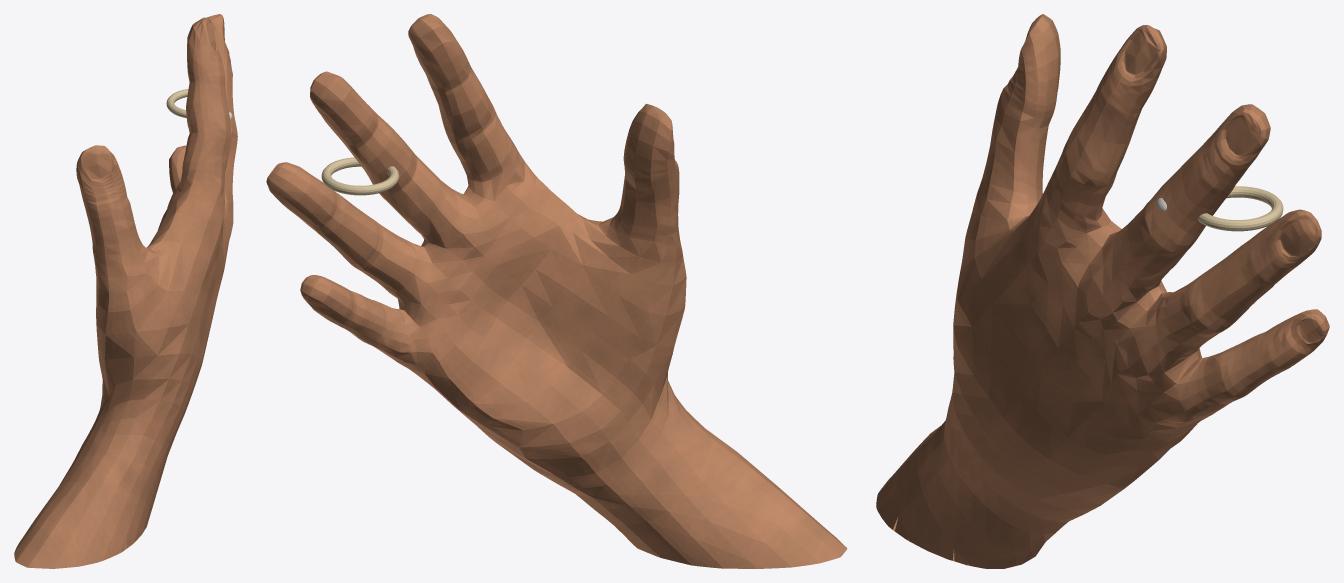
File: ring.glb
3 views of the same model, side by side, from view 1: azimuth 30°, elevation 25°; view 2: azimuth 150°, elevation 25°; view 3: azimuth 270°, elevation 25° (orthographic). The views are drawn at different scales.
Visible parts, largest first — view 1: kwu_ring_skin_v7_surface_v14, kwu_ring_jewelry_01; view 2: kwu_ring_skin_v7_surface_v14, kwu_ring_jewelry_01; view 3: kwu_ring_skin_v7_surface_v14, kwu_ring_jewelry_01.
Part boxes in pixels (x1,y1,x2,y2): kwu_ring_skin_v7_surface_v14: (14,14,237,568); kwu_ring_jewelry_01: (166,89,188,117); kwu_ring_skin_v7_surface_v14: (266,14,847,568); kwu_ring_jewelry_01: (321,157,399,195); kwu_ring_skin_v7_surface_v14: (876,14,1329,568); kwu_ring_jewelry_01: (1198,186,1283,231).
Size of the model in its own units: 2.03 by 2.49 by 1.64.
1 material, 1 textured.
